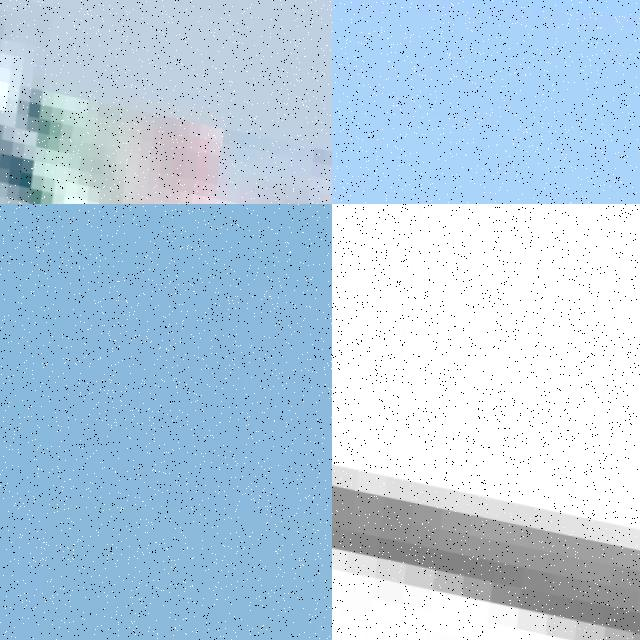drone: (332, 204, 640, 640), (0, 0, 332, 204)
